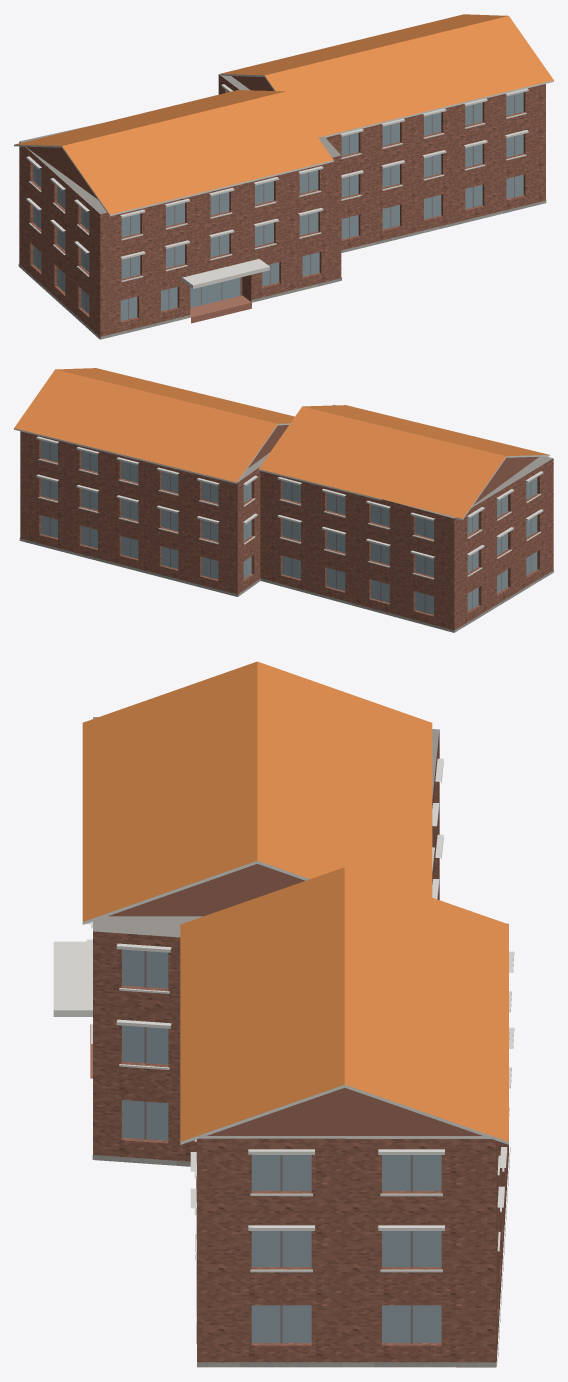
3 renders of one model, top to bottom at view 1: azimuth 30°, elevation 25°; view 2: azimuth 150°, elevation 25°; view 3: azimuth 270°, elevation 25°, orthographic. The views are drawn at different scales.
Parts seen in each view (by area): view 1: osm136243002__wall, osm136243002__roofAccent, osm136243002__glass, osm136243002__trim, osm136243002__base, osm136243002__canopy, osm136243002__frame, osm136243002__roof, osm136243002__entranceThreshold_0; view 2: osm136243002__wall, osm136243002__roofAccent, osm136243002__glass, osm136243002__trim, osm136243002__base, osm136243002__frame, osm136243002__roof; view 3: osm136243002__roofAccent, osm136243002__wall, osm136243002__glass, osm136243002__trim, osm136243002__roof, osm136243002__canopy, osm136243002__base, osm136243002__frame.
Part boxes in pixels (x1=…): osm136243002__wall: x1=19, y1=74, x2=545, y2=339; osm136243002__roofAccent: x1=15, y1=14, x2=553, y2=214; osm136243002__glass: x1=33, y1=92, x2=523, y2=320; osm136243002__trim: x1=14, y1=74, x2=553, y2=281; osm136243002__base: x1=18, y1=200, x2=546, y2=339; osm136243002__canopy: x1=182, y1=259, x2=269, y2=288; osm136243002__frame: x1=38, y1=94, x2=514, y2=319; osm136243002__roof: x1=19, y1=74, x2=340, y2=339; osm136243002__entranceThreshold_0: x1=190, y1=295, x2=251, y2=323; osm136243002__wall: x1=20, y1=425, x2=553, y2=632; osm136243002__roofAccent: x1=14, y1=368, x2=549, y2=518; osm136243002__glass: x1=41, y1=440, x2=537, y2=614; osm136243002__trim: x1=14, y1=423, x2=549, y2=579; osm136243002__base: x1=19, y1=538, x2=553, y2=632; osm136243002__frame: x1=49, y1=442, x2=531, y2=612; osm136243002__roof: x1=237, y1=404, x2=552, y2=596; osm136243002__roofAccent: x1=82, y1=661, x2=508, y2=1141; osm136243002__wall: x1=93, y1=730, x2=508, y2=1366; osm136243002__glass: x1=122, y1=949, x2=441, y2=1342; osm136243002__trim: x1=82, y1=758, x2=514, y2=1272; osm136243002__roof: x1=93, y1=717, x2=508, y2=1367; osm136243002__canopy: x1=53, y1=941, x2=92, y2=1016; osm136243002__base: x1=92, y1=1147, x2=510, y2=1367; osm136243002__frame: x1=144, y1=951, x2=412, y2=1343.
Bounding box in the file's own units: 36.05 × 11.82 × 16.46.
10 materials, 2 textured.
